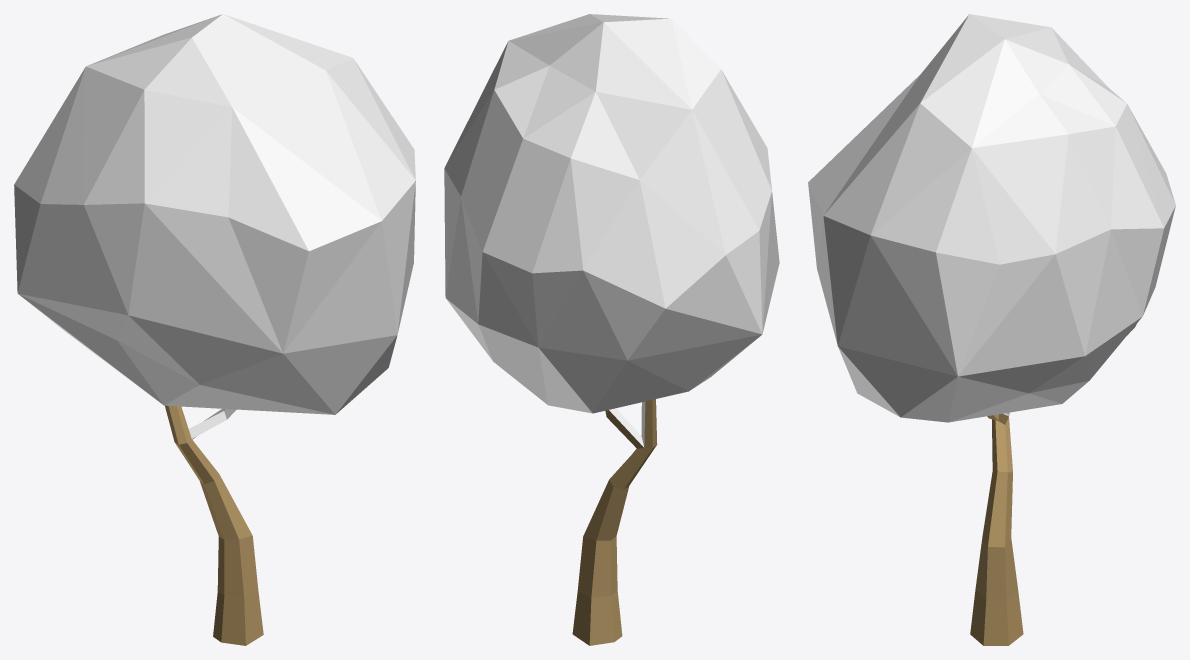
Rendered from Oak_Tree_m_Snow_BT_01.fbx.
3 renders of one model, left to right at view 1: azimuth 30°, elevation 25°; view 2: azimuth 150°, elevation 25°; view 3: azimuth 270°, elevation 25°, orthographic. The views are drawn at different scales.
Visible parts, largest first — view 1: Oak_Tree_m_Snow_BT_01; view 2: Oak_Tree_m_Snow_BT_01; view 3: Oak_Tree_m_Snow_BT_01.
Part boxes in pixels (<box>): Oak_Tree_m_Snow_BT_01: <box>14,14,415,645</box>; Oak_Tree_m_Snow_BT_01: <box>444,14,779,645</box>; Oak_Tree_m_Snow_BT_01: <box>808,14,1175,645</box>.
Size of the model in its own units: 554 by 943 by 529.
